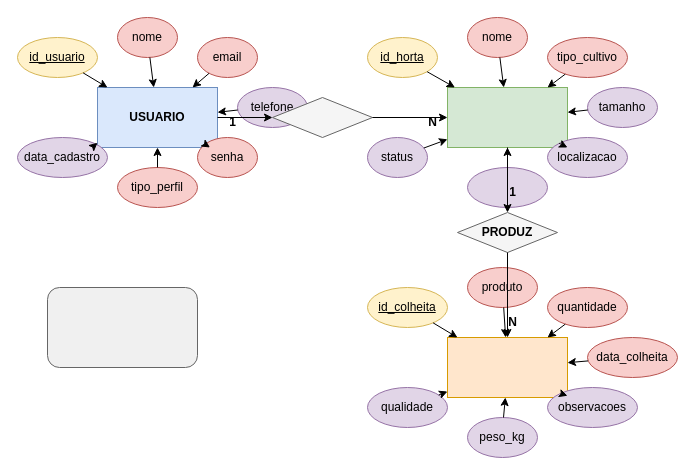
Some shapes in this 695 by 475 pixel diagram are drawn without their labels. The box of each missing label's shape, as (x1, y1, x2, y2) in pixels:
COLHEITA: (446, 336, 568, 398)
data_criacao: (466, 166, 548, 208)
HORTA: (446, 86, 568, 148)
LEGENDA 🔑 Chave Primária 📋 Atributo Obrigatório 📝 Atributo Opcional: (46, 286, 198, 368)
POSSUI: (272, 96, 372, 138)
